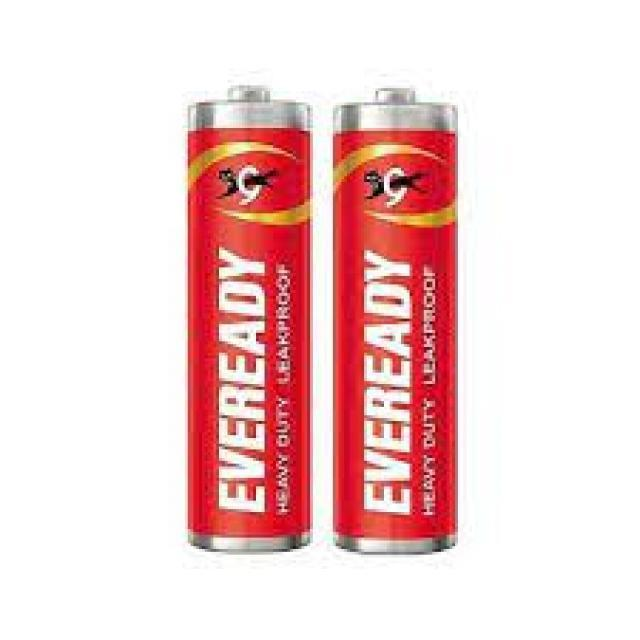battery: (333, 88, 460, 554), (188, 84, 312, 554)
